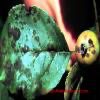Apple Scab Leaf: (0, 4, 71, 99)
